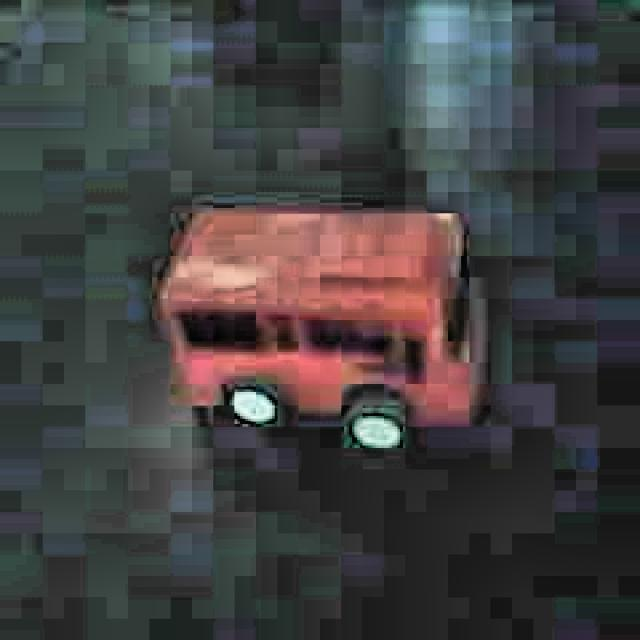bus: (154, 197, 489, 459)
